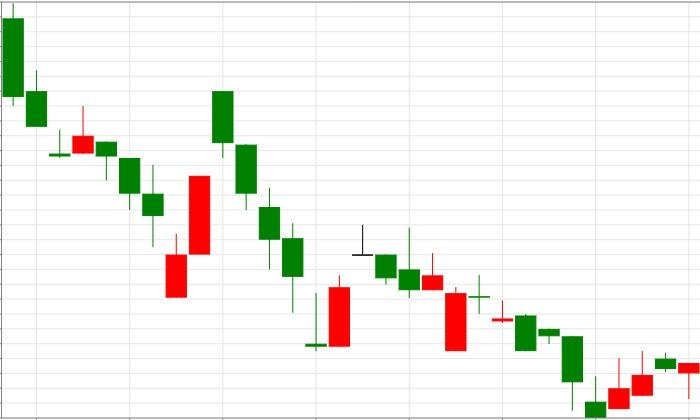three_black_crows_fall: (166, 90, 280, 298)
